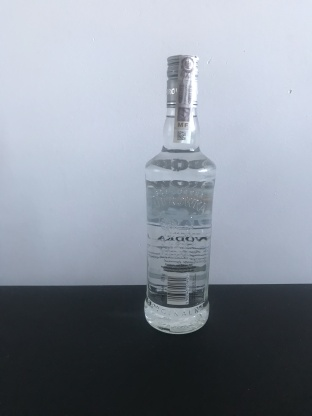nakretka: (164, 51, 201, 110)
